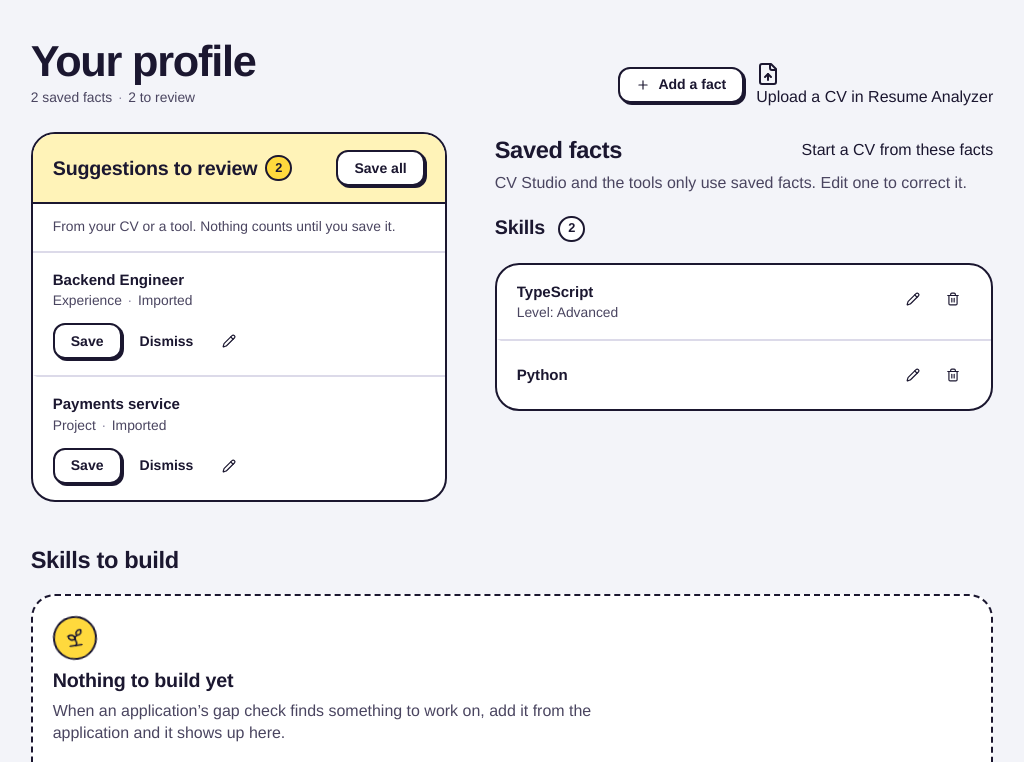
EvidenceProfilePage › moves focus to the next saved fact after a delete, never to the page body
Step 1. Click the button named "Delete TypeScript" → (953, 298), box x1=935 y1=280 x2=971 y2=316
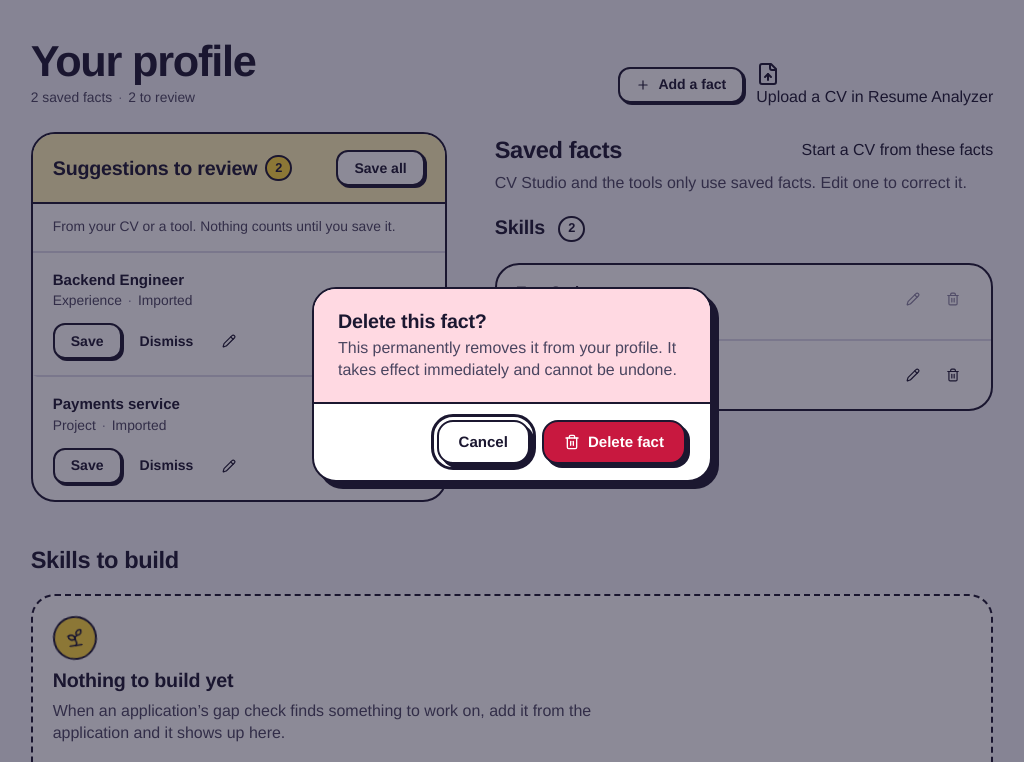
Step 2. Click the button "Delete fact" → (614, 442), box x1=542 y1=420 x2=686 y2=464
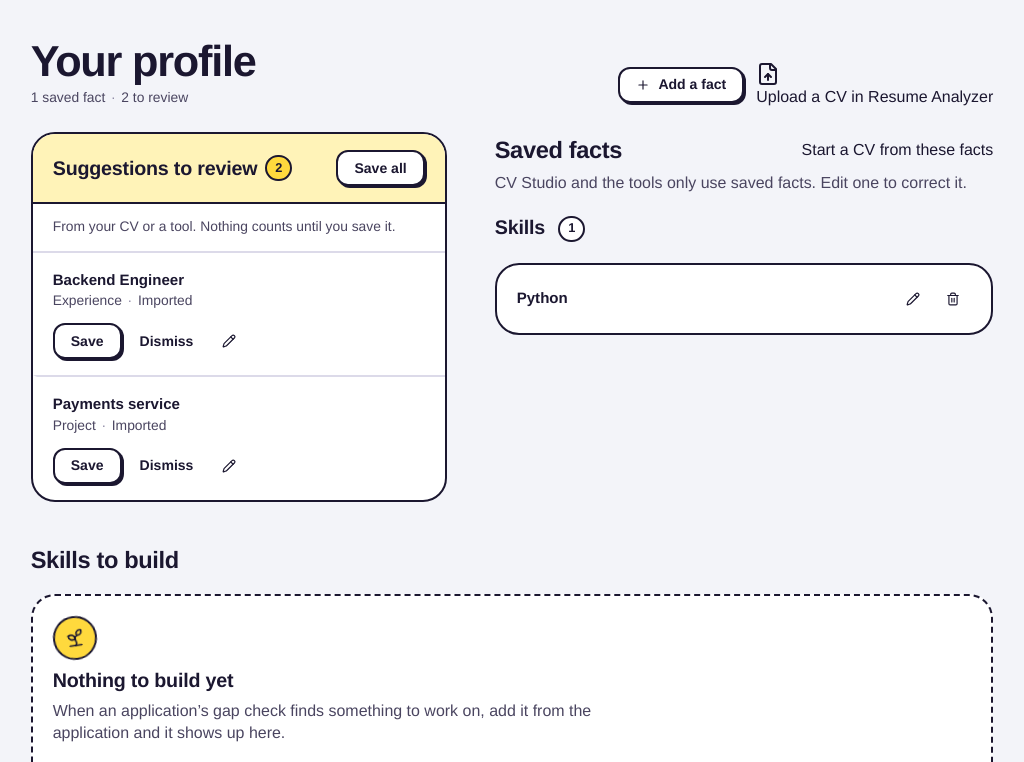
Check: the dialog is gone
